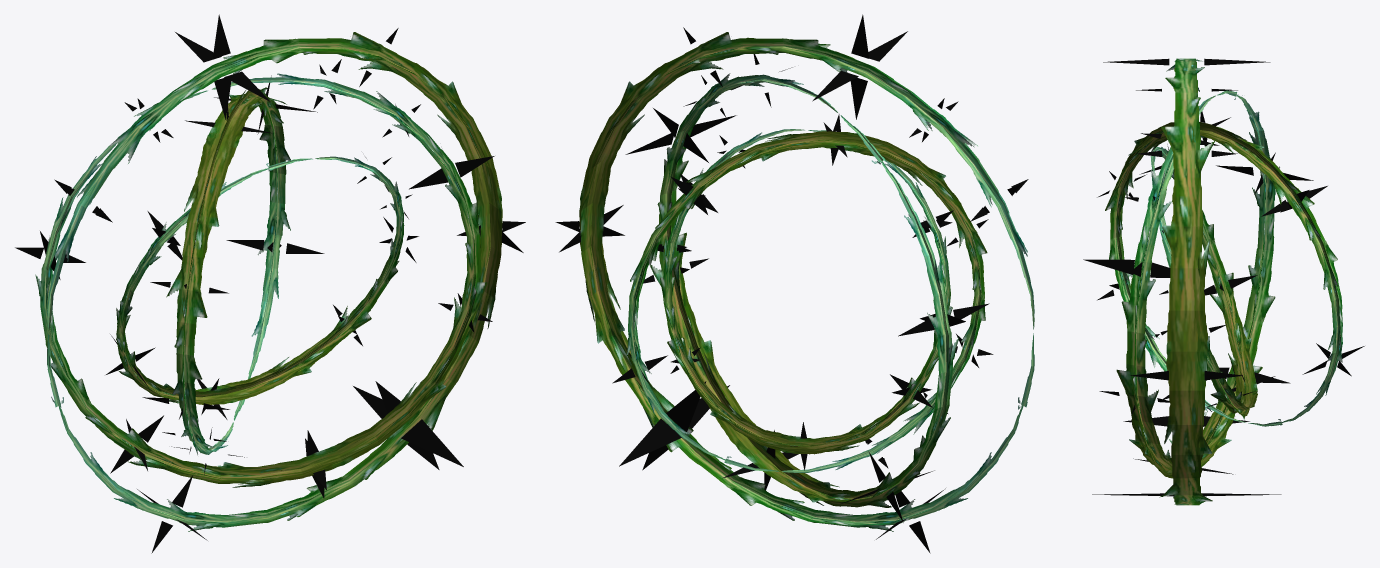
File: tx_aoshufanshi_keep.obj
3 views of the same model, side by side, from view 1: azimuth 30°, elevation 25°; view 2: azimuth 150°, elevation 25°; view 3: azimuth 270°, elevation 25° (orthographic). The views are drawn at different scales.
Parts seen in each view (by area): view 1: liantiao02, liantiao03, liantiao05, liantiao04, Object10, Object11, Object12, Object09; view 2: liantiao02, liantiao03, liantiao05, liantiao04, Object10, Object11, Object12, Object09; view 3: liantiao02, liantiao03, liantiao05, liantiao04, Object10, Object11, Object12, Object09.
Boxes of the visible parts, x1,y1,x2,y2 form: liantiao02: (47,32,502,531); liantiao03: (35,73,487,487); liantiao05: (166,87,290,455); liantiao04: (116,156,404,404); Object10: (54,14,525,553); Object11: (15,59,494,497); Object12: (142,75,324,474); Object09: (106,157,418,419); liantiao02: (579,32,1034,531); liantiao03: (650,73,959,507); liantiao05: (626,131,987,472); liantiao04: (660,129,952,454); Object10: (555,14,1028,553); Object11: (625,54,989,522); Object12: (612,114,993,468); Object09: (657,135,953,470); liantiao02: (1159,58,1214,505); liantiao03: (1116,90,1279,478); liantiao05: (1105,122,1342,426); liantiao04: (1150,147,1257,419); Object10: (1092,58,1281,496); Object11: (1083,133,1313,474); Object12: (1097,111,1364,399); Object09: (1139,144,1275,415).
Bounding box in the file's own units: 97.17 × 99.75 × 54.88.
2 materials, 2 textured.
